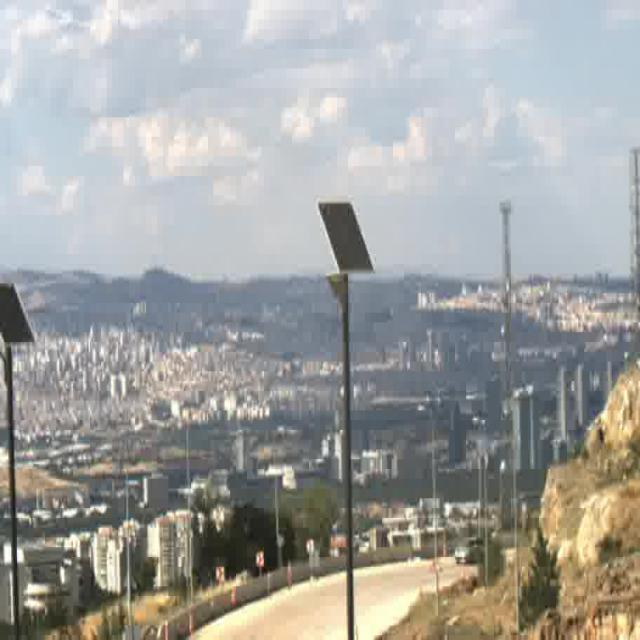Car: (454, 533, 486, 564)
